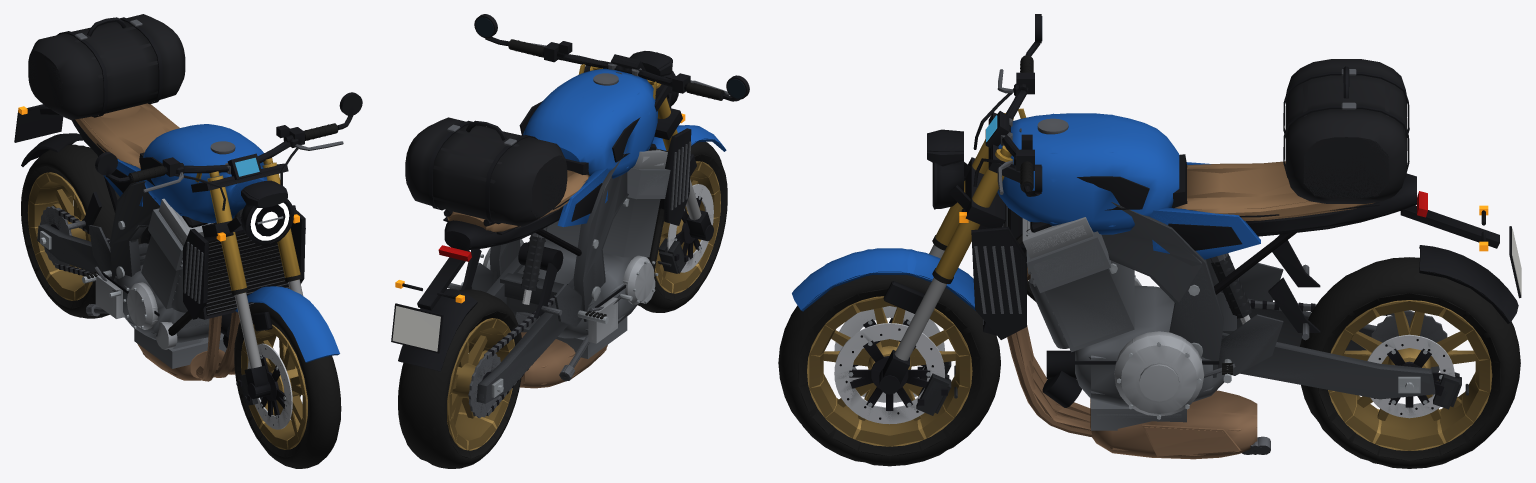
Rendered from bike08_xsr900.glb.
3 views of the same model, side by side, from view 1: azimuth 30°, elevation 25°; view 2: azimuth 150°, elevation 25°; view 3: azimuth 270°, elevation 25° (orthographic). The views are drawn at different scales.
Parts seen in each view (by area): view 1: body (×2), luggage (×2), wheel_rear (×2), wheel_front (×2), handlebar (×2), fork_left (×2), disc_front (×2), headlight (×2), fork_right; view 2: body (×2), luggage (×2), wheel_rear (×2), wheel_front (×2), handlebar (×2), fork_left (×2), disc_front (×2); view 3: body (×2), wheel_rear (×2), wheel_front (×2), luggage (×2), disc_front (×2), fork_right (×2), handlebar (×2), disc_rear (×2), fork_left.
Boxes of the visible parts, bbox=[...] form: body (×2): bbox=[14, 103, 339, 381]; luggage (×2): bbox=[28, 14, 185, 120]; wheel_rear (×2): bbox=[21, 144, 141, 318]; wheel_front (×2): bbox=[234, 302, 341, 468]; handlebar (×2): bbox=[95, 92, 362, 210]; fork_left (×2): bbox=[207, 171, 271, 405]; disc_front (×2): bbox=[247, 343, 302, 429]; headlight (×2): bbox=[249, 202, 290, 242]; fork_right: bbox=[262, 158, 303, 295]; body (×2): bbox=[391, 51, 726, 416]; luggage (×2): bbox=[405, 117, 567, 226]; wheel_rear (×2): bbox=[398, 289, 521, 468]; wheel_front (×2): bbox=[638, 142, 727, 312]; handlebar (×2): bbox=[474, 14, 749, 101]; fork_left (×2): bbox=[647, 79, 713, 273]; disc_front (×2): bbox=[667, 184, 713, 272]; body (×2): bbox=[792, 108, 1521, 459]; wheel_rear (×2): bbox=[1300, 257, 1520, 468]; wheel_front (×2): bbox=[778, 275, 1000, 466]; luggage (×2): bbox=[1283, 59, 1409, 203]; disc_front (×2): bbox=[834, 306, 944, 424]; fork_right (×2): bbox=[879, 145, 1012, 415]; handlebar (×2): bbox=[973, 14, 1042, 196]; disc_rear (×2): bbox=[1367, 334, 1455, 418]; fork_left: bbox=[902, 113, 1013, 378].
Size of the model in its own units: 1.04 by 1.17 by 2.
